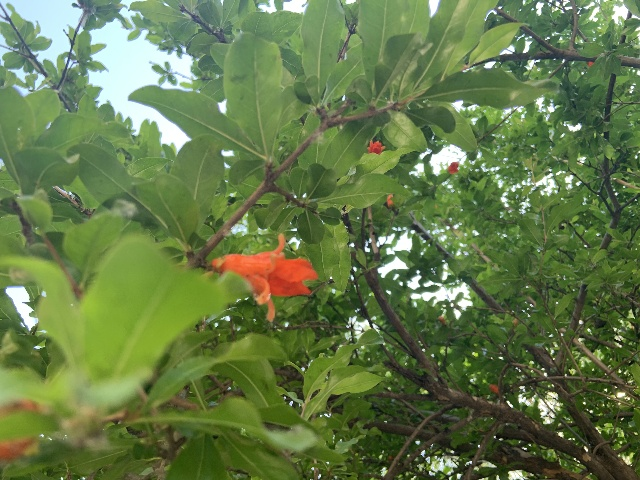flower: (212, 233, 318, 321), (367, 139, 386, 154), (447, 161, 459, 174)
